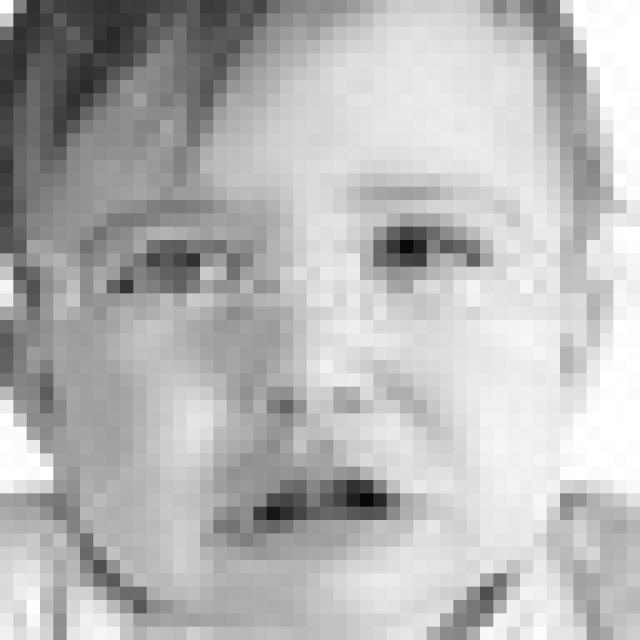sad: (86, 188, 535, 566)
